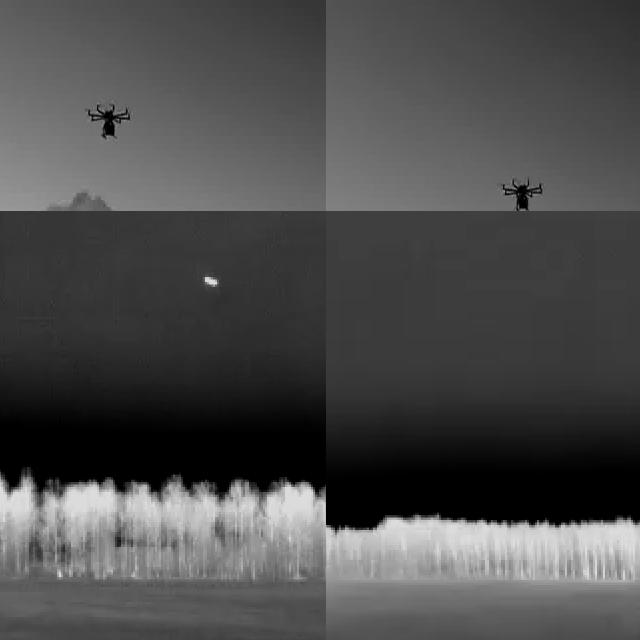1: (191, 270, 227, 300)
drone: (86, 98, 131, 146), (498, 169, 541, 211)
